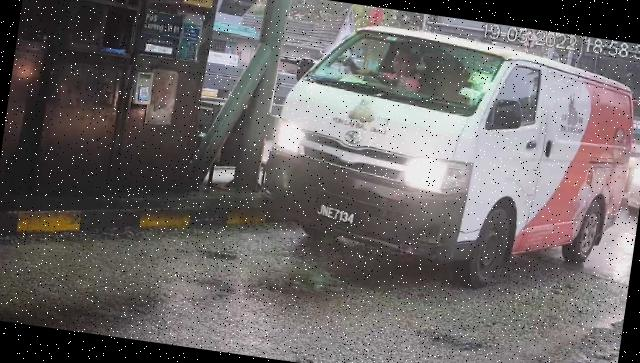License_Plate: (315, 200, 360, 229)
van: (254, 12, 640, 308)
